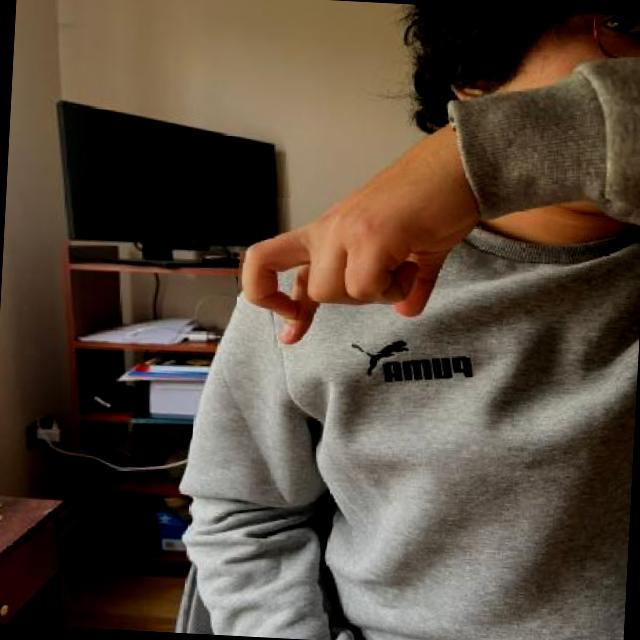P: (234, 94, 500, 359)
